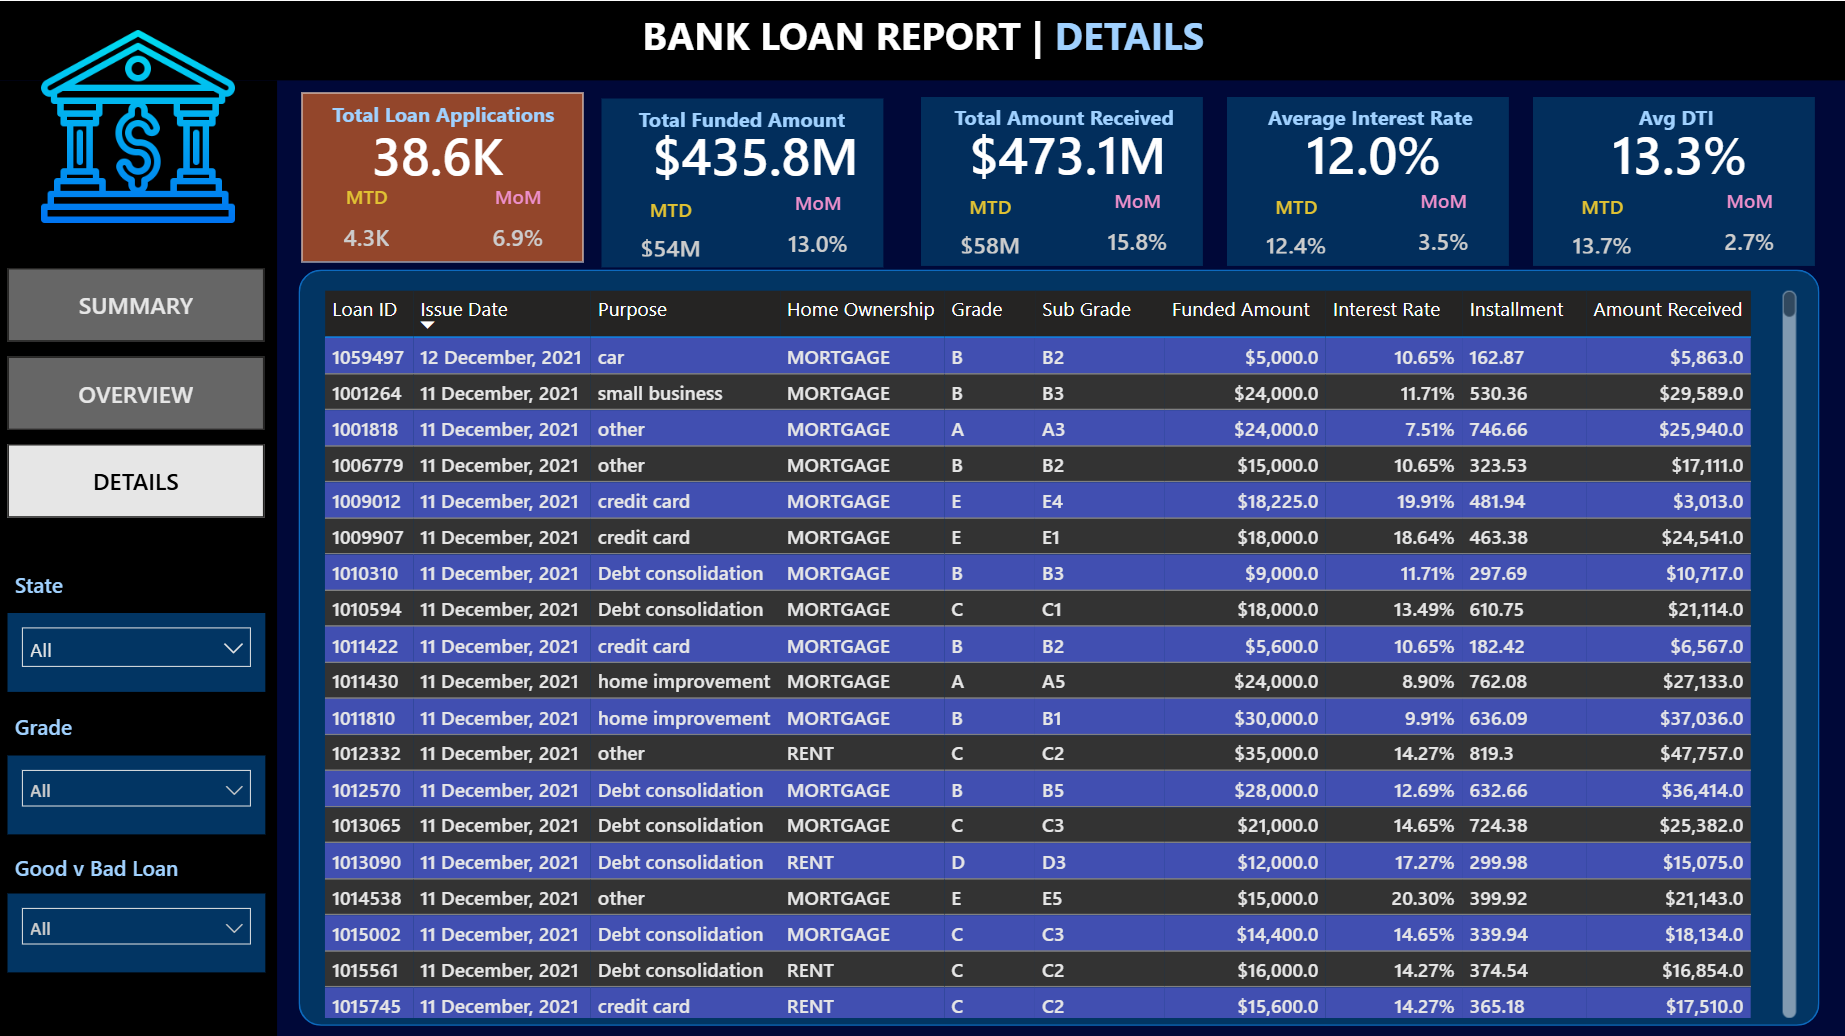

The page's visual inventory and layout, read from the dashboard file:
{"tool":"powerbi","page":{"name":"DETAILS","canvas":[1280,720],"ordinal":2},"visuals":[{"type":"shape","box":[208.8,63.8,195.5,117],"z":0,"group":"g1"},{"type":"shape","box":[638.3,66.6,195.5,117],"z":0,"group":"g4"},{"type":"shape","box":[850.6,66.6,195.5,117],"z":0,"group":"g3"},{"type":"shape","box":[1062.9,66.6,195.5,117],"z":0,"group":"g5"},{"type":"shape","box":[416.9,68.1,195.5,117],"z":0,"group":"g2"},{"type":"shape","box":[207.1,186,1054.1,524.2],"z":0},{"type":"shape","box":[0,0,1279.5,55],"z":1000},{"type":"cardVisual","fields":{"Data":["financial_loan (1).Total Funded Amount"]},"box":[421.9,63.8,203.8,83.7],"z":1000,"group":"g2"},{"type":"cardVisual","fields":{"Data":["financial_loan (1).Total Amount Received"]},"box":[641.5,63.8,197.1,82.3],"z":1000,"group":"g4"},{"type":"cardVisual","fields":{"Data":["financial_loan (1).Avg Interest Rate"]},"box":[853.8,63.8,197.1,82.3],"z":1000,"group":"g3"},{"type":"cardVisual","fields":{"Data":["financial_loan (1).Avg DTI"]},"box":[1066.1,63.8,197.1,82.3],"z":1000,"group":"g5"},{"type":"cardVisual","fields":{"Data":["financial_loan (1).Total Loan Applications"]},"box":[215.7,66.7,175,76.1],"z":1000,"group":"g1"},{"type":"shape","box":[0,54.7,192,664.6],"z":2000},{"type":"textbox","box":[219.4,63.8,175.6,35.9],"z":2000,"group":"g1"},{"type":"textbox","box":[649.4,65.5,175.7,40.7],"z":2000,"group":"g4"},{"type":"textbox","box":[861.7,65.5,175.7,40.7],"z":2000,"group":"g3"},{"type":"textbox","box":[1074,65.5,175.7,40.7],"z":2000,"group":"g5"},{"type":"textbox","box":[428,67.1,175.7,40.7],"z":2000,"group":"g2"},{"type":"textbox","box":[412.5,0,454.5,57.3],"z":3000},{"type":"cardVisual","title":"MTD","fields":{"Data":["financial_loan (1).MTD Loan Applications"]},"box":[208.8,126.3,90.4,54.5],"z":3000,"group":"g1"},{"type":"cardVisual","title":"MTD","fields":{"Data":["financial_loan (1).MTD Total Amount Recieved"]},"box":[637.9,133.7,96.2,50.8],"z":3000,"group":"g4"},{"type":"cardVisual","title":"MTD","fields":{"Data":["financial_loan (1).MTD Avg Int Rate"]},"box":[850.2,133.7,96.2,50.8],"z":3000,"group":"g3"},{"type":"cardVisual","title":"MTD","fields":{"Data":["financial_loan (1).MTD Avg DTI"]},"box":[1062.5,133.7,96.2,50.8],"z":3000,"group":"g5"},{"type":"cardVisual","title":"MTD","fields":{"Data":["financial_loan (1).MTD Funded Amount"]},"box":[416.5,135.2,96.2,50.8],"z":3000,"group":"g2"},{"type":"group","id":"g1","title":"Group 1","box":[208.8,63.8,195.5,117],"z":4000},{"type":"cardVisual","title":"MoM","fields":{"Data":["financial_loan (1).MoM Loan Application"]},"box":[313.9,126.3,90.4,54.5],"z":4000,"group":"g1"},{"type":"cardVisual","title":"MoM","fields":{"Data":["financial_loan (1).MoM Total Amount Recieved"]},"box":[743.4,129.1,90.4,54.5],"z":4000,"group":"g4"},{"type":"cardVisual","title":"MoM","fields":{"Data":["financial_loan (1).MoM Avg Int Rate"]},"box":[955.7,129.1,90.4,54.5],"z":4000,"group":"g3"},{"type":"cardVisual","title":"MoM","fields":{"Data":["financial_loan (1).MoM Avg DTI"]},"box":[1168,129.1,90.4,54.5],"z":4000,"group":"g5"},{"type":"cardVisual","title":"MoM","fields":{"Data":["financial_loan (1).MoM Total Funded Amount"]},"box":[522,130.6,90.4,54.5],"z":4000,"group":"g2"},{"type":"group","id":"g2","title":"Group 1","box":[416.5,63.8,209.2,122.2],"z":5000},{"type":"group","id":"g3","title":"Group 1","box":[850.2,63.8,200.1,121.2],"z":6000},{"type":"group","id":"g4","title":"Group 1","box":[637.9,63.8,200.1,121.2],"z":7000},{"type":"group","id":"g5","title":"Group 1","box":[1062.5,63.8,200.1,121.2],"z":8000},{"type":"slicer","fields":{"Values":["financial_loan (1).address_state"]},"box":[5.6,424.2,179,55],"z":9000},{"type":"textbox","box":[5.6,388.9,174.7,35.2],"z":10000},{"type":"slicer","fields":{"Values":["financial_loan (1).grade"]},"box":[5.6,522.8,179,55],"z":11000},{"type":"textbox","box":[5.6,487.6,174.7,35.2],"z":12000},{"type":"slicer","fields":{"Values":["financial_loan (1).Good vs Bad Loan"]},"box":[5.6,618.6,179,55],"z":13000},{"type":"textbox","box":[5.6,584.8,174.7,35.2],"z":14000},{"type":"tableEx","fields":{"Values":["financial_loan (1).id","financial_loan (1).issue_date","financial_loan (1).purpose","financial_loan (1).home_ownership","financial_loan (1).grade","financial_loan (1).sub_grade","financial_loan (1).Total Funded Amount","Avg(financial_loan (1).int_rate)","financial_loan (1).installment","financial_loan (1).Total Amount Received"]},"box":[219.8,195.9,1030.1,514.4],"z":15000},{"type":"pageNavigator","box":[5.6,184.6,179,174.7],"z":16000},{"type":"image","box":[0,15.3,191.5,142.9],"z":17000}]}

Visuals, with their boxes in screenshot pixels (x1, y1, x2, y2), scaled from the page's 1280x720 canvas onto the 1845x1036 screenshot:
shape: (left=301, top=92, right=583, bottom=260)
shape: (left=920, top=96, right=1202, bottom=264)
shape: (left=1226, top=96, right=1508, bottom=264)
shape: (left=1532, top=96, right=1814, bottom=264)
shape: (left=601, top=98, right=883, bottom=266)
shape: (left=299, top=268, right=1818, bottom=1022)
shape: (left=0, top=0, right=1844, bottom=79)
cardVisual - financial_loan (1).Total Funded Amount: (left=608, top=92, right=902, bottom=212)
cardVisual - financial_loan (1).Total Amount Received: (left=925, top=92, right=1209, bottom=210)
cardVisual - financial_loan (1).Avg Interest Rate: (left=1231, top=92, right=1515, bottom=210)
cardVisual - financial_loan (1).Avg DTI: (left=1537, top=92, right=1821, bottom=210)
cardVisual - financial_loan (1).Total Loan Applications: (left=311, top=96, right=563, bottom=205)
shape: (left=0, top=79, right=277, bottom=1035)
textbox: (left=316, top=92, right=569, bottom=143)
textbox: (left=936, top=94, right=1189, bottom=153)
textbox: (left=1242, top=94, right=1495, bottom=153)
textbox: (left=1548, top=94, right=1801, bottom=153)
textbox: (left=617, top=97, right=870, bottom=155)
textbox: (left=595, top=0, right=1250, bottom=82)
"MTD" cardVisual: (left=301, top=182, right=431, bottom=260)
"MTD" cardVisual: (left=919, top=192, right=1058, bottom=265)
"MTD" cardVisual: (left=1225, top=192, right=1364, bottom=265)
"MTD" cardVisual: (left=1531, top=192, right=1670, bottom=265)
"MTD" cardVisual: (left=600, top=195, right=739, bottom=268)
"Group 1" group: (left=301, top=92, right=583, bottom=260)
"MoM" cardVisual: (left=452, top=182, right=583, bottom=260)
"MoM" cardVisual: (left=1072, top=186, right=1202, bottom=264)
"MoM" cardVisual: (left=1378, top=186, right=1508, bottom=264)
"MoM" cardVisual: (left=1684, top=186, right=1814, bottom=264)
"MoM" cardVisual: (left=752, top=188, right=883, bottom=266)
"Group 1" group: (left=600, top=92, right=902, bottom=268)
"Group 1" group: (left=1225, top=92, right=1514, bottom=266)
"Group 1" group: (left=919, top=92, right=1208, bottom=266)
"Group 1" group: (left=1531, top=92, right=1820, bottom=266)
slicer - financial_loan (1).address_state: (left=8, top=610, right=266, bottom=690)
textbox: (left=8, top=560, right=260, bottom=610)
slicer - financial_loan (1).grade: (left=8, top=752, right=266, bottom=831)
textbox: (left=8, top=702, right=260, bottom=752)
slicer - financial_loan (1).Good vs Bad Loan: (left=8, top=890, right=266, bottom=969)
textbox: (left=8, top=841, right=260, bottom=892)
tableEx - financial_loan (1).id x financial_loan (1).issue_date: (left=317, top=282, right=1802, bottom=1022)
pageNavigator: (left=8, top=266, right=266, bottom=517)
image: (left=0, top=22, right=276, bottom=228)
